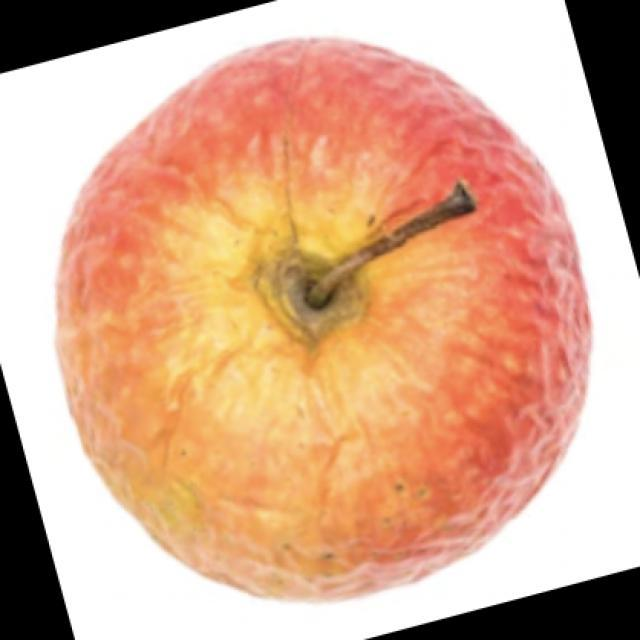Rotten: (46, 45, 582, 597)
